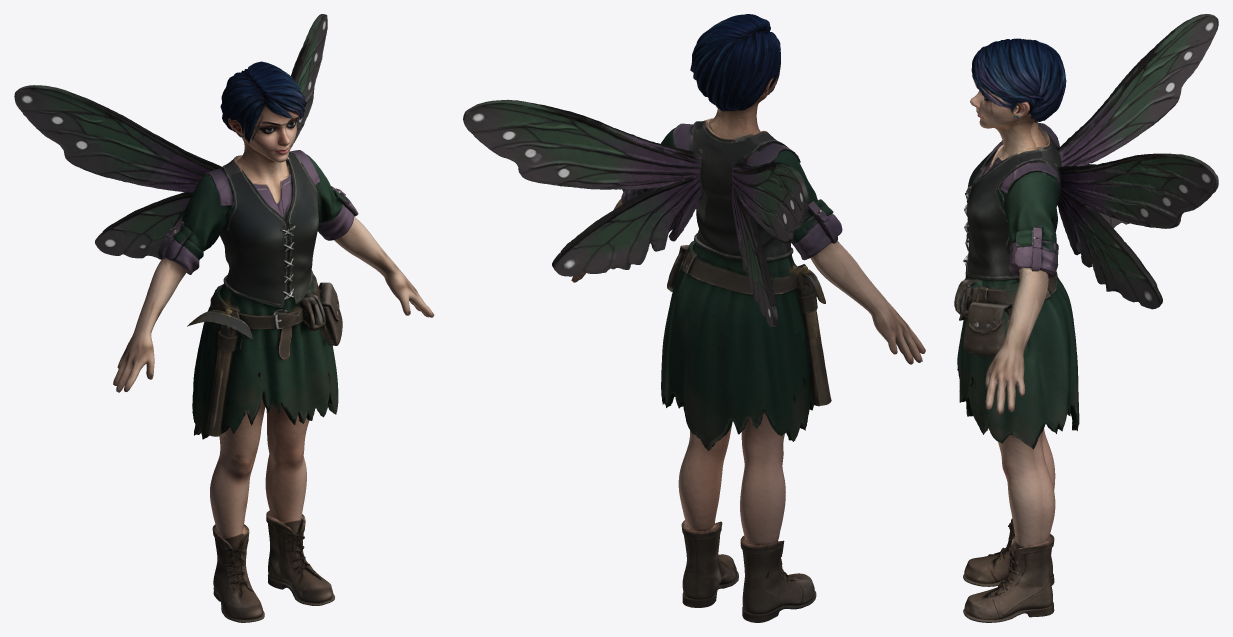
Rendered from dark-fairy-worker_v3.glb.
The picture shows the model from 3 angles, left to right: view 1: azimuth 30°, elevation 25°; view 2: azimuth 150°, elevation 25°; view 3: azimuth 270°, elevation 25°; orthographic projection. The views are drawn at different scales.
Parts seen in each view (by area): view 1: tmpmi738xgt.obj; view 2: tmpmi738xgt.obj; view 3: tmpmi738xgt.obj.
Part boxes in pixels (left/top/right/bottom): tmpmi738xgt.obj: left=14, top=14, right=434, bottom=622; tmpmi738xgt.obj: left=463, top=14, right=925, bottom=622; tmpmi738xgt.obj: left=954, top=14, right=1218, bottom=622.
Bounding box in the file's own units: 1.06 × 1.7 × 0.7318.
1 material, 1 textured.
